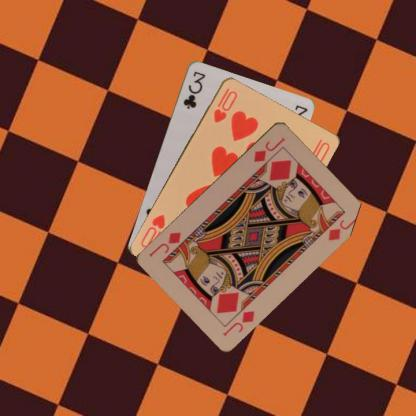10h: (210, 84, 239, 124)
3c: (180, 69, 207, 110)
Jd: (250, 134, 286, 164), (220, 308, 256, 338)
